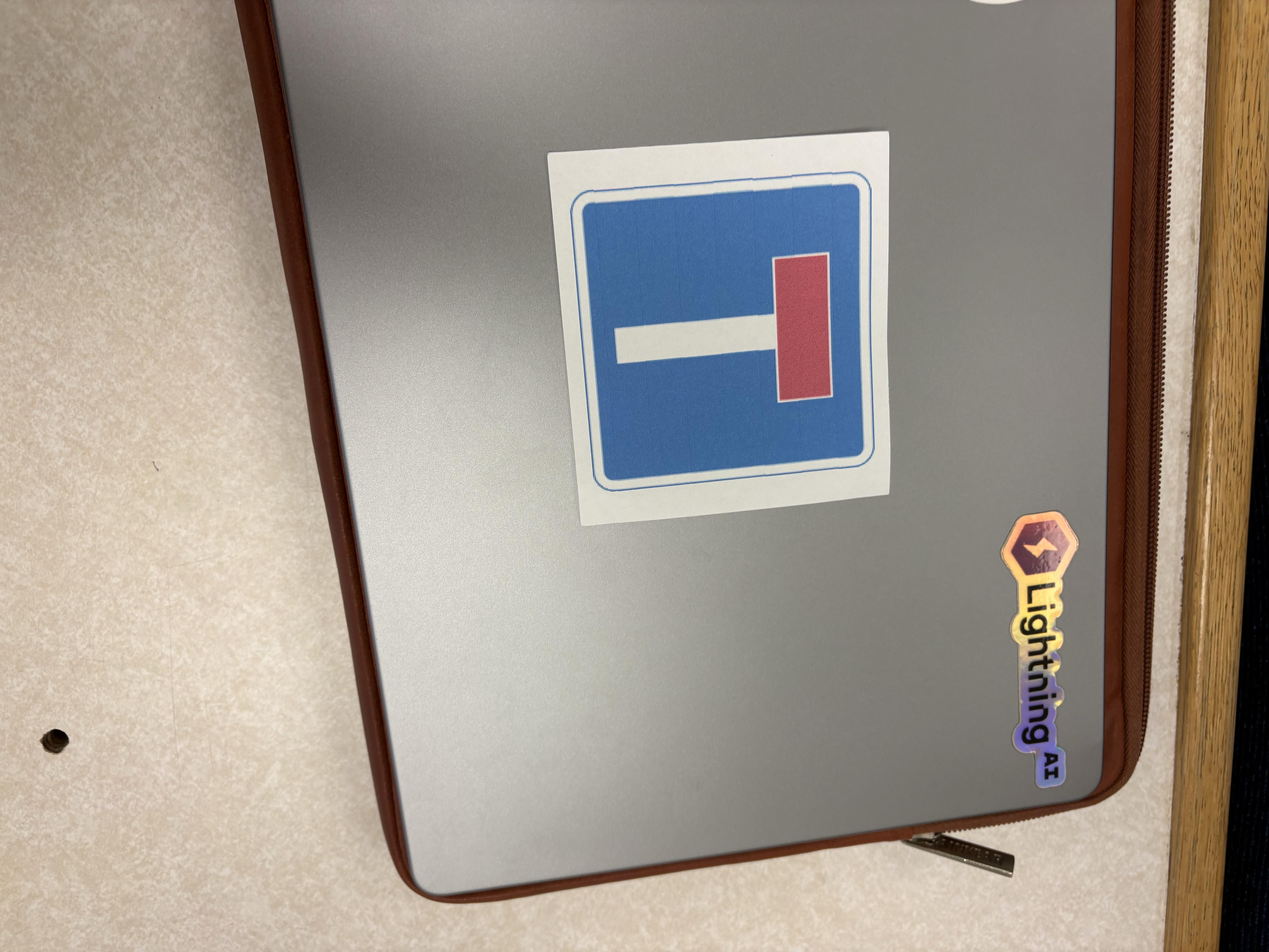Dead End: (544, 126, 899, 527)
